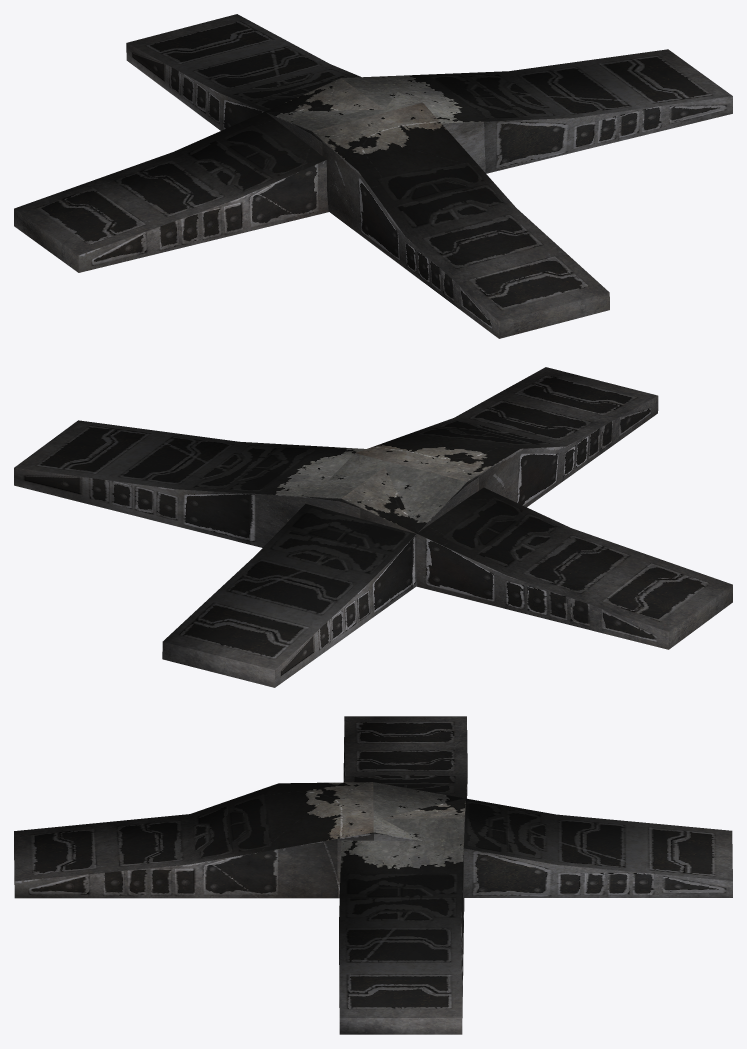
File: anti_armoured_car_lod1.obj
3 views of the same model, one above another, from view 1: azimuth 30°, elevation 25°; view 2: azimuth 150°, elevation 25°; view 3: azimuth 270°, elevation 25° (orthographic). The views are drawn at different scales.
Parts seen in each view (by area): view 1: Anti_Armoured_Car_Base_od1; view 2: Anti_Armoured_Car_Base_od1; view 3: Anti_Armoured_Car_Base_od1.
Part boxes in pixels (<box>): Anti_Armoured_Car_Base_od1: <box>14,14,732,338</box>; Anti_Armoured_Car_Base_od1: <box>14,367,732,687</box>; Anti_Armoured_Car_Base_od1: <box>14,716,732,1034</box>.
Size of what is drawn, in the model's own units: 1.87 by 0.1957 by 1.87.
1 material, 1 textured.
